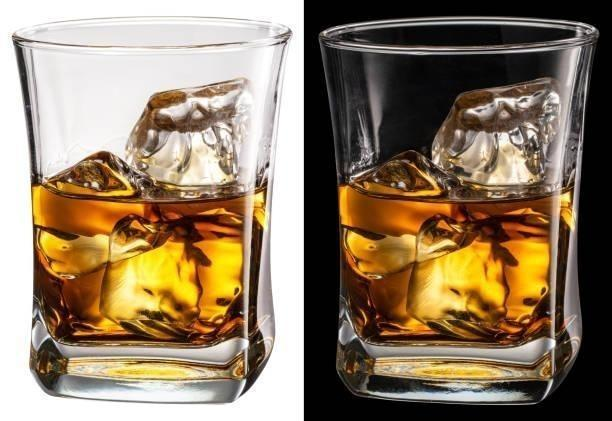glass-normal: (315, 11, 602, 411), (9, 13, 294, 406)
